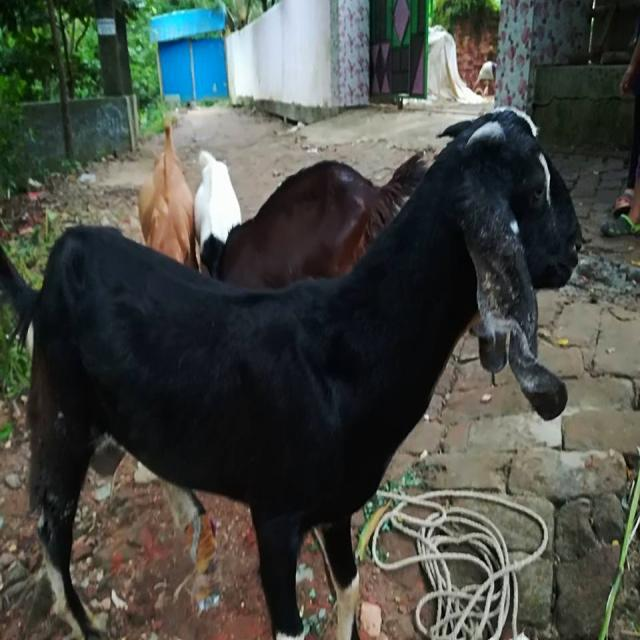Goat: (4, 104, 586, 638), (200, 149, 428, 290), (138, 119, 198, 270)
